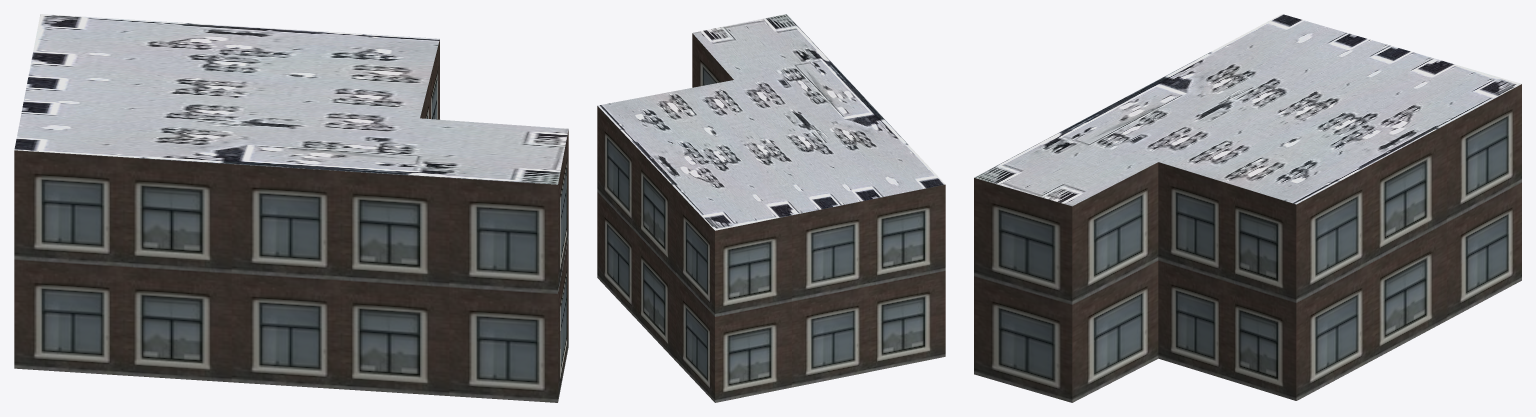
Rendered from ResTex__2936.fbx.
The picture shows the model from 3 angles, left to right: view 1: azimuth 30°, elevation 25°; view 2: azimuth 150°, elevation 25°; view 3: azimuth 270°, elevation 25°; orthographic projection. The views are drawn at different scales.
Visible parts, largest first — view 1: CityEngineMaterial_16_m, CityEngineMaterial_15_m; view 2: CityEngineMaterial_16_m, CityEngineMaterial_15_m; view 3: CityEngineMaterial_16_m, CityEngineMaterial_15_m.
Boxes of the visible parts, box(x1,y1,x2,y2) form: CityEngineMaterial_16_m: box(14, 39, 568, 402); CityEngineMaterial_15_m: box(14, 14, 568, 184); CityEngineMaterial_16_m: box(597, 33, 945, 402); CityEngineMaterial_15_m: box(598, 14, 945, 230); CityEngineMaterial_16_m: box(974, 84, 1521, 402); CityEngineMaterial_15_m: box(974, 14, 1521, 206).
Size of the model in its own units: 12.59 by 6 by 15.15.
2 materials, 2 textured.
